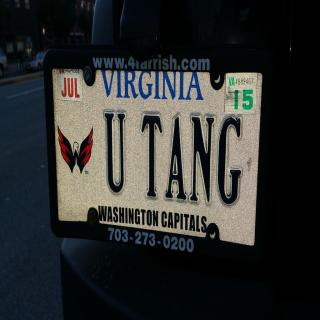license: (44, 48, 270, 268)
